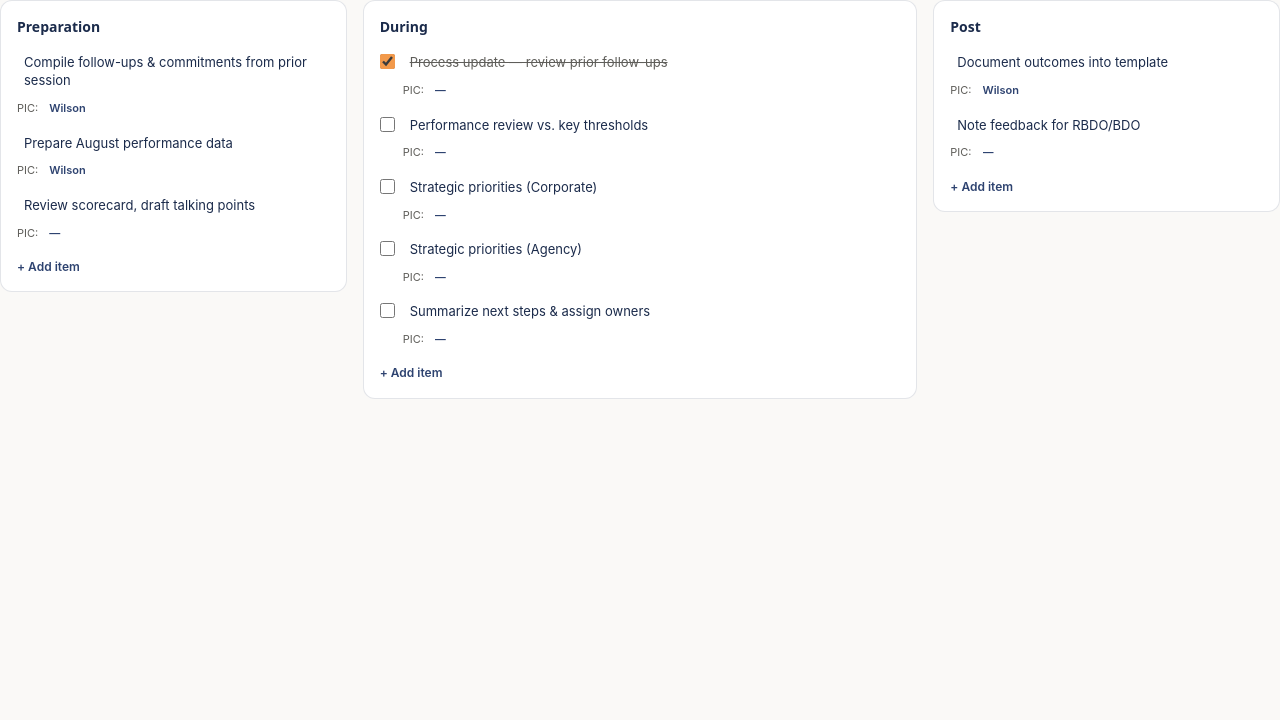
P18.1-T2 AC-5 writing the agenda › a tick saves at once, shown at once, with the item’s version; *Saved*
Click the checkbox named "Performance review vs. key thresholds": [387, 124] box [380,116,395,132]
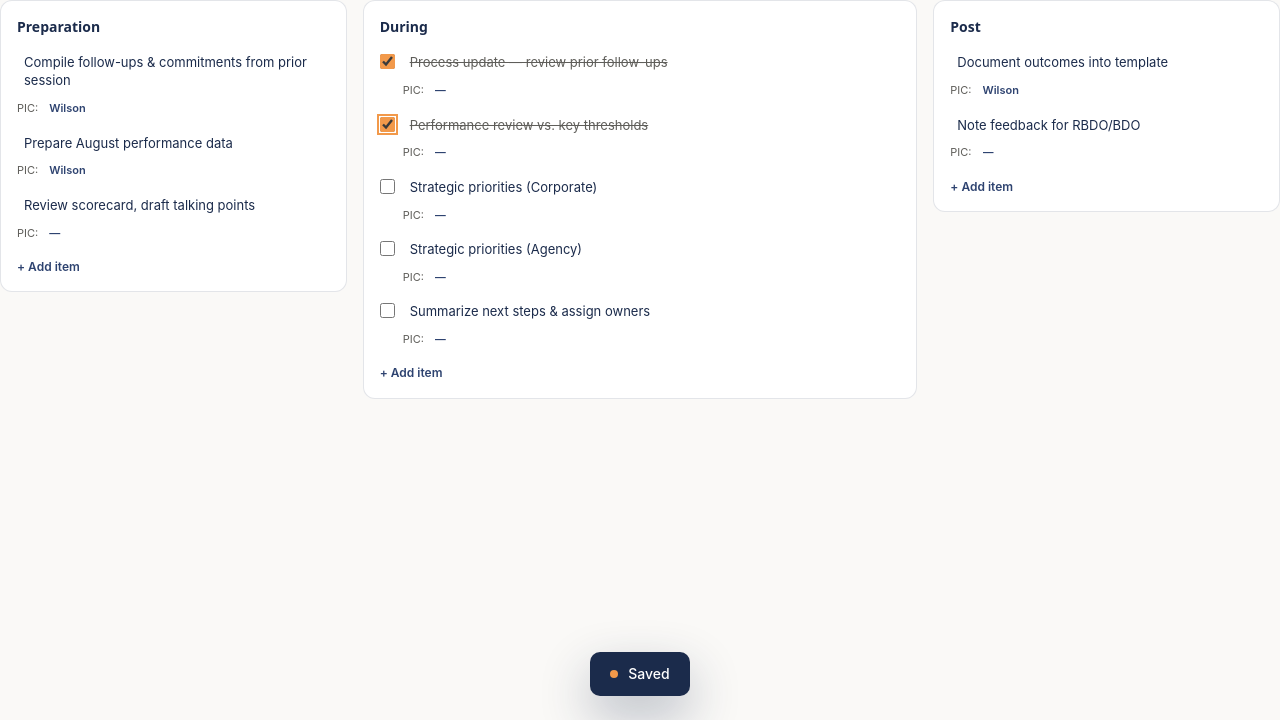
Now the checkbox named "Performance review vs. key thresholds" is checked, box [380,116,395,132]
Now the text "Saved" is shown, box [590,652,690,696]
